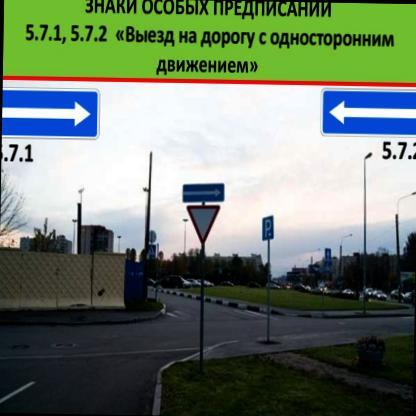road_sign: (2, 86, 99, 138), (321, 90, 415, 135), (188, 205, 219, 243), (183, 182, 224, 202), (261, 216, 274, 240), (320, 257, 331, 277), (320, 244, 331, 261), (147, 241, 158, 257)
